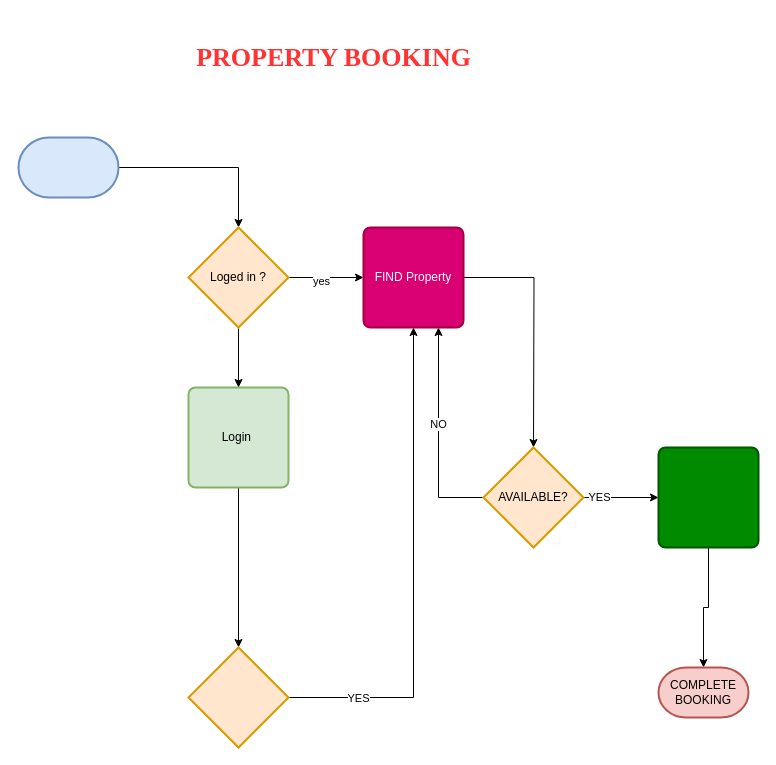
Some shapes in this 776 by 765 pixel diagram are drawn without their labels. The centre of each missing label's shape, as x and y in pixels:
MAKE PAYMENT: the point at 708,497
No erro: the point at 238,697
start: the point at 68,167
